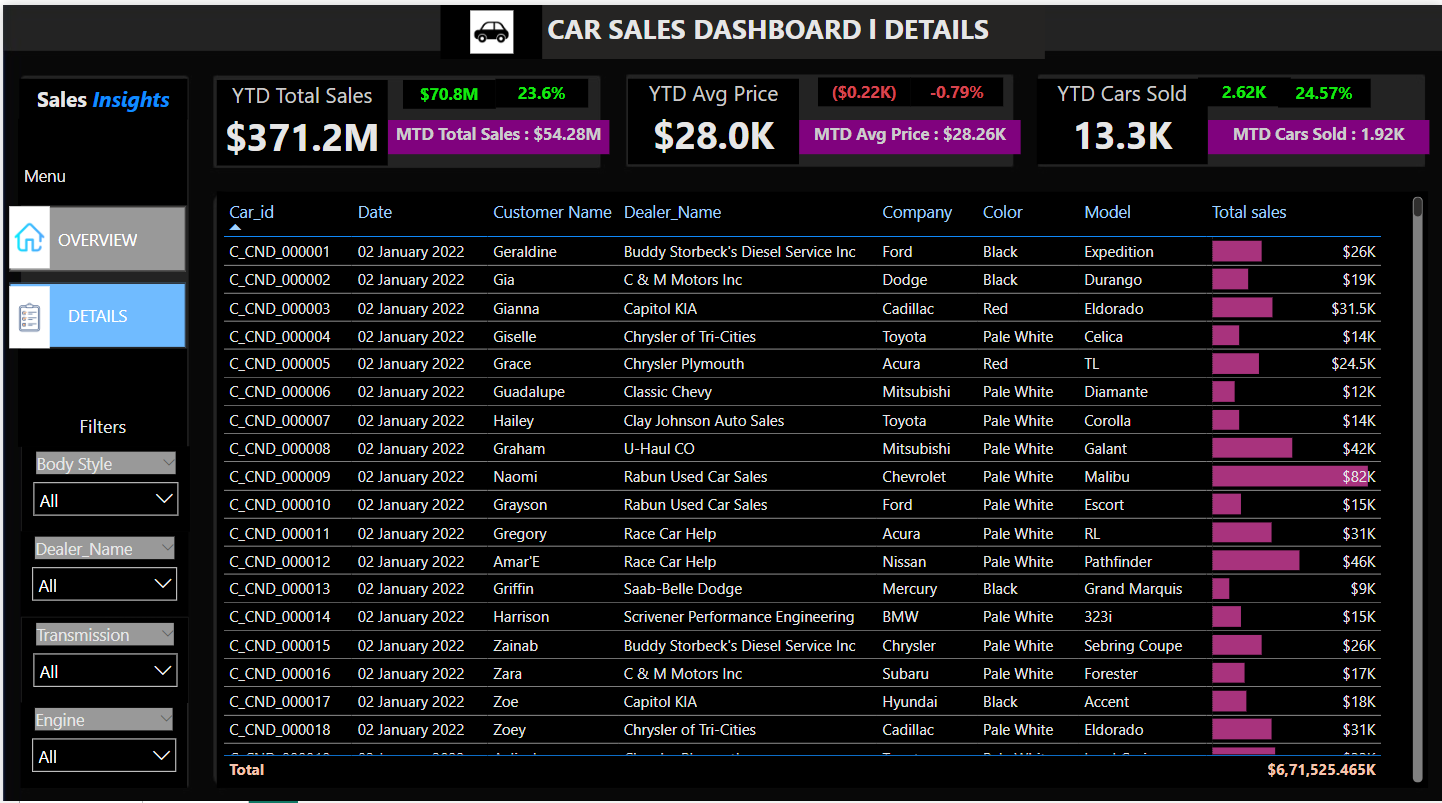

The dashboard page shown, as its layout file describes it:
{"tool":"powerbi","page":{"name":"DETAILS","canvas":[1280,720],"ordinal":1},"visuals":[{"type":"card","title":"YTD  Total Sales","fields":{"Values":["car_data.YTD Total sales"]},"box":[190.6,66.3,152,76],"z":0},{"type":"card","fields":{"Values":["car_data.Sales difference"]},"box":[355.8,66.3,82,25.3],"z":1000},{"type":"card","fields":{"Values":["car_data.YOY Sales Growth"]},"box":[437.8,65.1,82,25.3],"z":2000},{"type":"card","fields":{"Values":["car_data.MTD KPI"]},"box":[342.5,102.5,196.6,30.2],"z":3000},{"type":"card","title":"YTD Avg Price","fields":{"Values":["Calendar table.YTD Avg Price"]},"box":[556,65.1,152,76],"z":4000},{"type":"card","fields":{"Values":["car_data.Avg Price Diff"]},"box":[724.8,63.9,82,25.3],"z":5000},{"type":"card","fields":{"Values":["car_data.YOY Avg Price growth"]},"box":[806.8,63.9,82,25.3],"z":6000},{"type":"card","fields":{"Values":["car_data.MTD Avg price KPI"]},"box":[707.9,102.5,196.6,30.2],"z":7000},{"type":"card","title":"YTD Cars Sold","fields":{"Values":["car_data.YTD Cars sold"]},"box":[919,65.1,152,76],"z":8000},{"type":"card","fields":{"Values":["car_data.Cars Sold Diff"]},"box":[1062.5,63.9,82,25.3],"z":9000},{"type":"card","fields":{"Values":["car_data.YOY cars sold growth"]},"box":[1133.7,65.1,82,25.3],"z":10000},{"type":"card","fields":{"Values":["car_data.MTD cars sold KPI"]},"box":[1071,102.5,196.6,30.2],"z":11000},{"type":"textbox","box":[478.8,0,447.4,48.2],"z":12000},{"type":"slicer","fields":{"Values":["car_data.Body Style"]},"box":[16.9,392,149.5,76],"z":13000},{"type":"slicer","fields":{"Values":["car_data.Dealer_Name"]},"box":[15.7,467.9,149.5,76],"z":14000},{"type":"slicer","fields":{"Values":["car_data.Transmission"]},"box":[16.9,543.9,148.3,76],"z":15000},{"type":"slicer","fields":{"Values":["car_data.Engine"]},"box":[15.7,619.9,148.3,76],"z":16000},{"type":"textbox","box":[13.3,305.1,150.8,86.8],"z":17000},{"type":"tableEx","fields":{"Values":["car_data.Car_id","car_data.Date","car_data.Customer Name","car_data.Dealer_Name","car_data.Company","car_data.Color","car_data.Model","Sum(car_data.Price ($))"]},"box":[190.6,165.2,1077,530.7],"z":19000},{"type":"pageNavigator","box":[6,178.5,158,126.6],"z":19001},{"type":"textbox","box":[14.5,65.1,149.5,36.2],"z":19002},{"type":"textbox","box":[13.3,101.3,150.8,77.2],"z":19003},{"type":"image","box":[6,178.5,36.2,55.5],"z":19004},{"type":"image","box":[6,249.6,36.2,55.5],"z":19005},{"type":"image","box":[388.3,0,90.5,48.2],"z":19006}]}

Visuals, with their boxes in screenshot pixels (x1, y1, x2, y2), scaled from the page's 1280x720 canvas onto the 1442x803 screenshot:
"YTD  Total Sales" card: (x1=215, y1=74, x2=386, y2=159)
card - car_data.Sales difference: (x1=401, y1=74, x2=493, y2=102)
card - car_data.YOY Sales Growth: (x1=493, y1=73, x2=586, y2=101)
card - car_data.MTD KPI: (x1=386, y1=114, x2=607, y2=148)
"YTD Avg Price" card: (x1=626, y1=73, x2=798, y2=157)
card - car_data.Avg Price Diff: (x1=817, y1=71, x2=909, y2=99)
card - car_data.YOY Avg Price growth: (x1=909, y1=71, x2=1001, y2=99)
card - car_data.MTD Avg price KPI: (x1=797, y1=114, x2=1019, y2=148)
"YTD Cars Sold" card: (x1=1035, y1=73, x2=1207, y2=157)
card - car_data.Cars Sold Diff: (x1=1197, y1=71, x2=1289, y2=99)
card - car_data.YOY cars sold growth: (x1=1277, y1=73, x2=1370, y2=101)
card - car_data.MTD cars sold KPI: (x1=1207, y1=114, x2=1428, y2=148)
textbox: (x1=539, y1=0, x2=1043, y2=54)
slicer - car_data.Body Style: (x1=19, y1=437, x2=187, y2=522)
slicer - car_data.Dealer_Name: (x1=18, y1=522, x2=186, y2=607)
slicer - car_data.Transmission: (x1=19, y1=607, x2=186, y2=691)
slicer - car_data.Engine: (x1=18, y1=691, x2=185, y2=776)
textbox: (x1=15, y1=340, x2=185, y2=437)
tableEx - car_data.Car_id x car_data.Date: (x1=215, y1=184, x2=1428, y2=776)
pageNavigator: (x1=7, y1=199, x2=185, y2=340)
textbox: (x1=16, y1=73, x2=185, y2=113)
textbox: (x1=15, y1=113, x2=185, y2=199)
image: (x1=7, y1=199, x2=48, y2=261)
image: (x1=7, y1=278, x2=48, y2=340)
image: (x1=437, y1=0, x2=539, y2=54)
